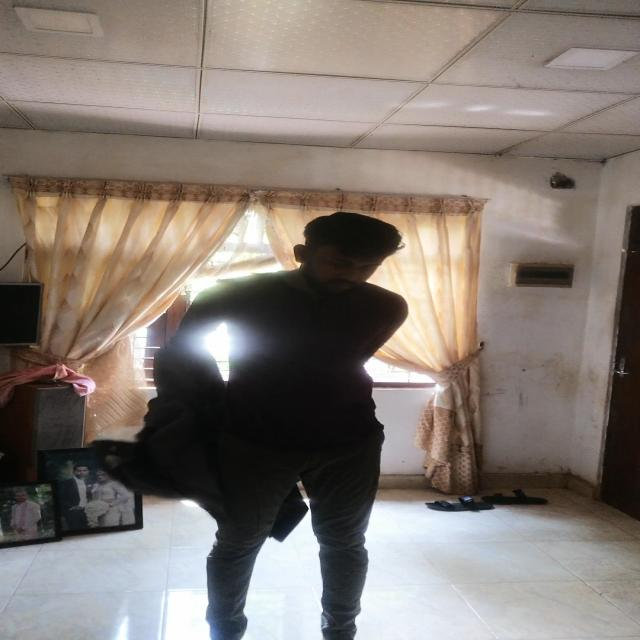Person: (163, 196, 425, 640)
